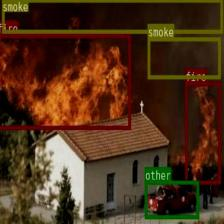fire: (0, 33, 131, 129), (185, 82, 220, 183)
smoke: (1, 0, 222, 33), (147, 37, 220, 78)
